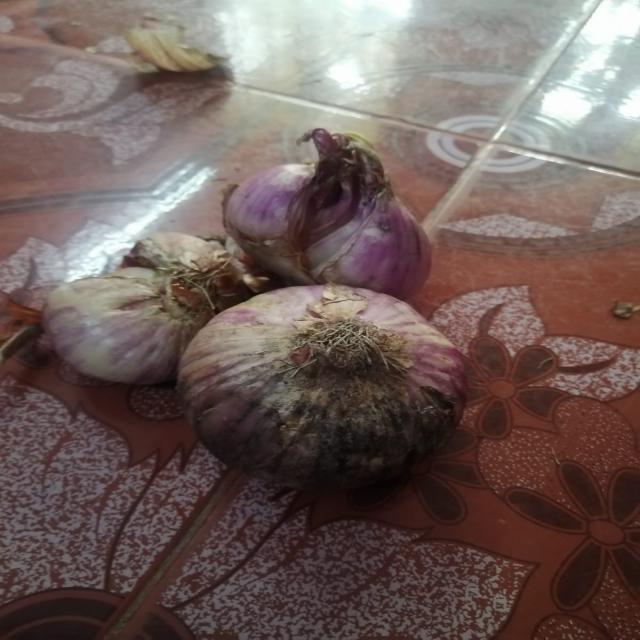rotten: (270, 388, 445, 474), (57, 249, 182, 291), (309, 196, 361, 250)
sprouting: (306, 135, 388, 186)
